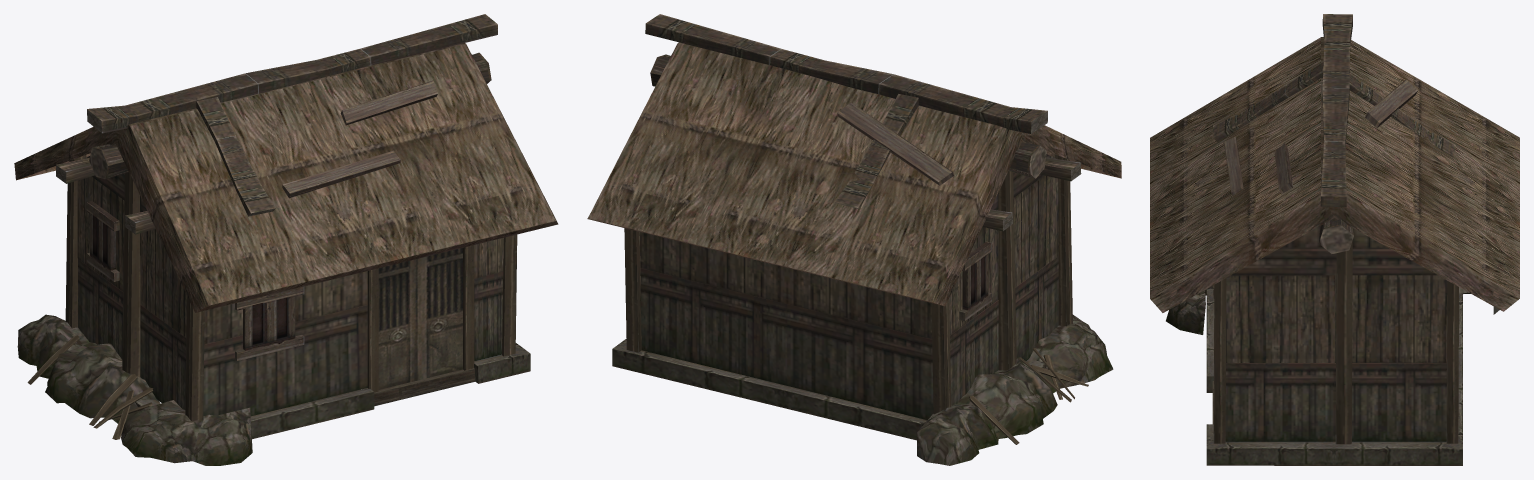
The model's file is pve_wujianA_uv3.FBX.
The picture shows the model from 3 angles, left to right: view 1: azimuth 30°, elevation 25°; view 2: azimuth 150°, elevation 25°; view 3: azimuth 270°, elevation 25°; orthographic projection. The views are drawn at different scales.
Visible parts, largest first — view 1: s7_maocaofang_a; view 2: s7_maocaofang_a; view 3: s7_maocaofang_a.
Boxes of the visible parts, bbox=[...] form: s7_maocaofang_a: bbox=[14, 14, 558, 465]; s7_maocaofang_a: bbox=[587, 14, 1121, 465]; s7_maocaofang_a: bbox=[1150, 14, 1519, 465].
Bounding box in the file's own units: 493 × 335 × 398.
